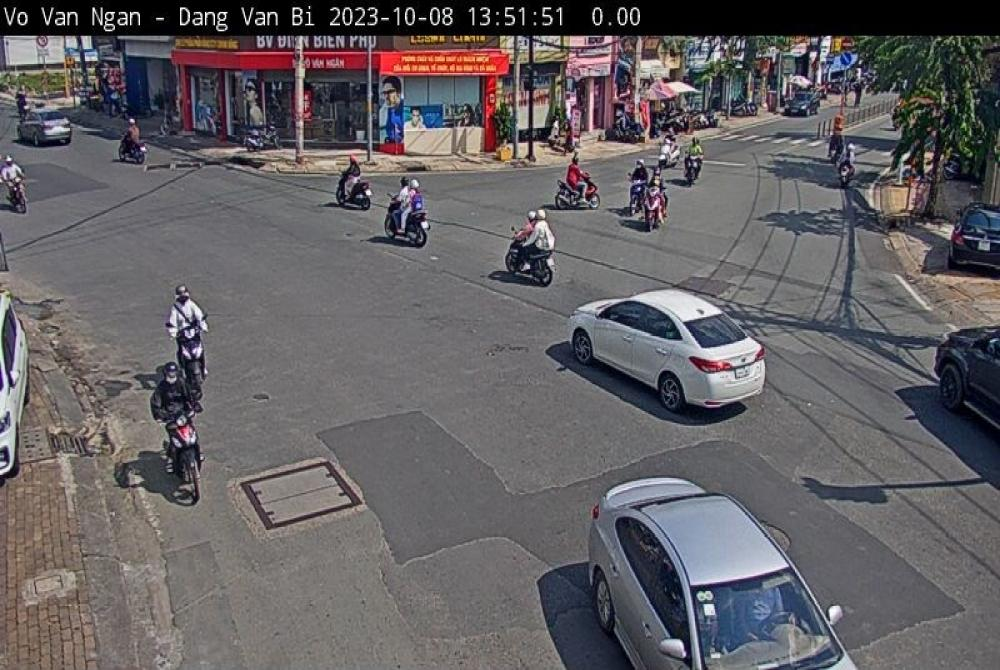car: (586, 473, 848, 670)
